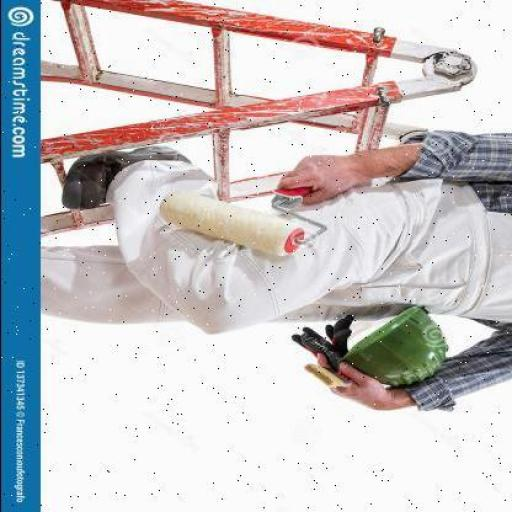safety_shoe: (63, 147, 188, 214)
